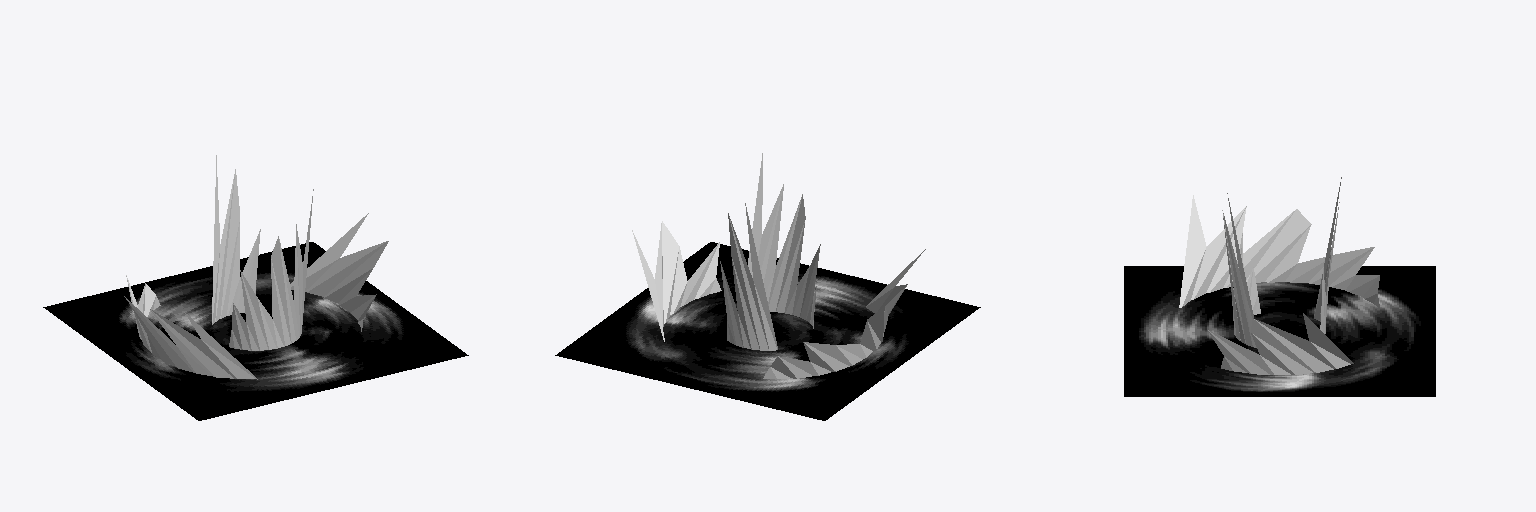
The picture shows the model from 3 angles: view 1: azimuth 30°, elevation 25°; view 2: azimuth 150°, elevation 25°; view 3: azimuth 270°, elevation 25°; orthographic projection.
Visible parts, largest first — view 1: polygon2, polygon0, polygon1; view 2: polygon2, polygon0, polygon1; view 3: polygon2, polygon1, polygon0.
Part boxes in pixels (bbox=[...]): polygon2: bbox=[43, 242, 468, 420]; polygon0: bbox=[212, 155, 313, 350]; polygon1: bbox=[124, 213, 388, 379]; polygon2: bbox=[555, 242, 980, 420]; polygon0: bbox=[720, 153, 820, 350]; polygon1: bbox=[632, 221, 925, 378]; polygon2: bbox=[1124, 266, 1435, 396]; polygon1: bbox=[1179, 195, 1379, 374]; polygon0: bbox=[1222, 177, 1341, 347].
Size of the model in its own units: 22 by 12.75 by 22.
3 materials, 1 textured.